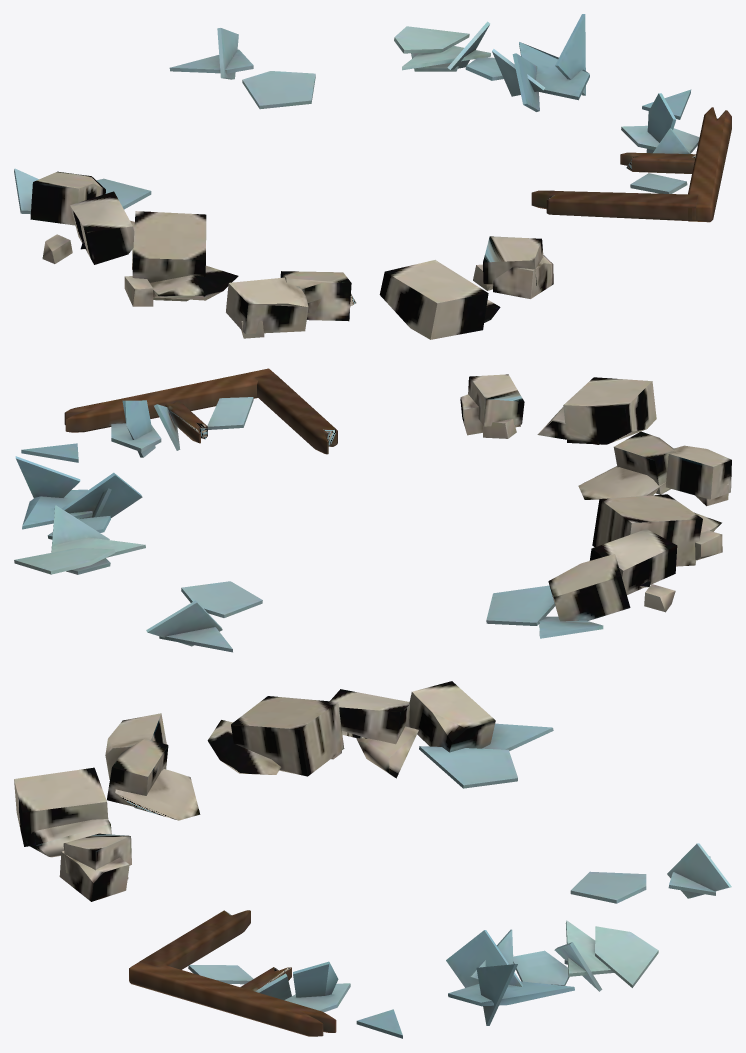
Rendered from rough-glass-1.low.glb.
3 views of the same model, one above another, from view 1: azimuth 30°, elevation 25°; view 2: azimuth 150°, elevation 25°; view 3: azimuth 270°, elevation 25° (orthographic).
Visible parts, largest first — view 1: rough-glass-1; view 2: rough-glass-1; view 3: rough-glass-1.
Part boxes in pixels (x1,y1,x2,y2): rough-glass-1: (14,14,731,339); rough-glass-1: (14,368,731,652); rough-glass-1: (14,681,731,1038).
Size of the model in its own units: 1.56 by 0.1575 by 1.48.
1 material, 1 textured.
